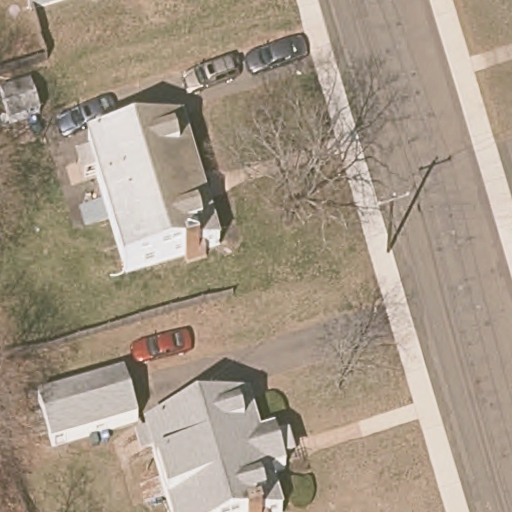DT: (376, 190, 411, 253)
